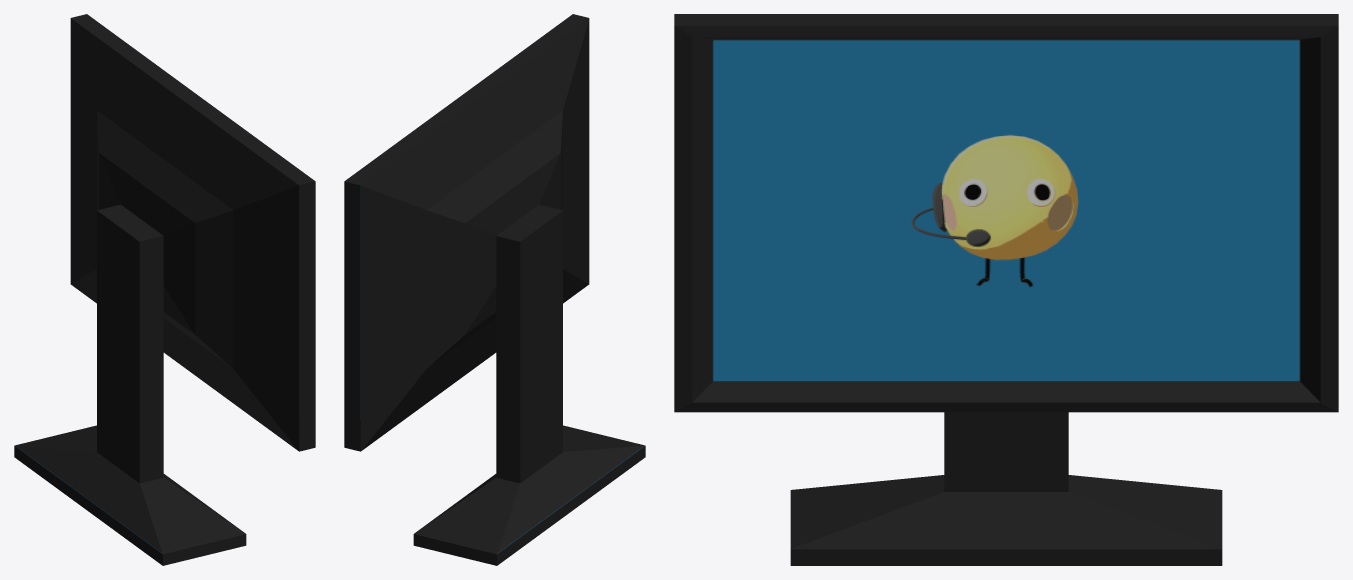
File: Monitor.fbx
3 renders of one model, left to right at view 1: azimuth 30°, elevation 25°; view 2: azimuth 150°, elevation 25°; view 3: azimuth 270°, elevation 25°, orthographic. The views are drawn at different scales.
Visible parts, largest first — view 1: Monitor; view 2: Monitor; view 3: Monitor.
Boxes of the visible parts, box(x1,y1,x2,y2) form: Monitor: box(14, 14, 315, 565); Monitor: box(344, 14, 645, 565); Monitor: box(674, 14, 1338, 565).
Size of the model in its own units: 85.36 by 277 by 297.
